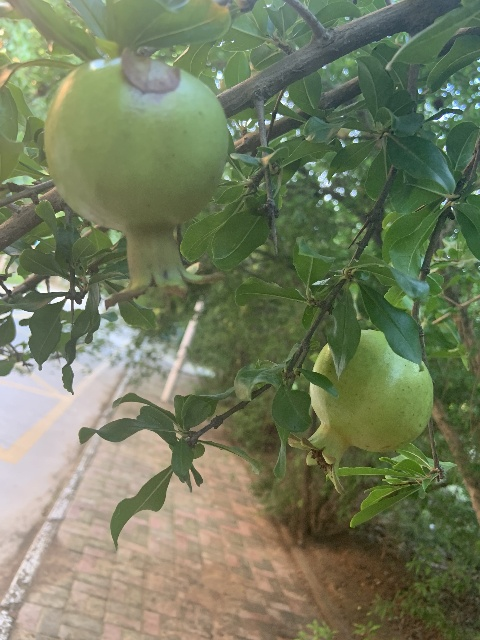mid-growth: (44, 56, 228, 311), (287, 329, 434, 496)
